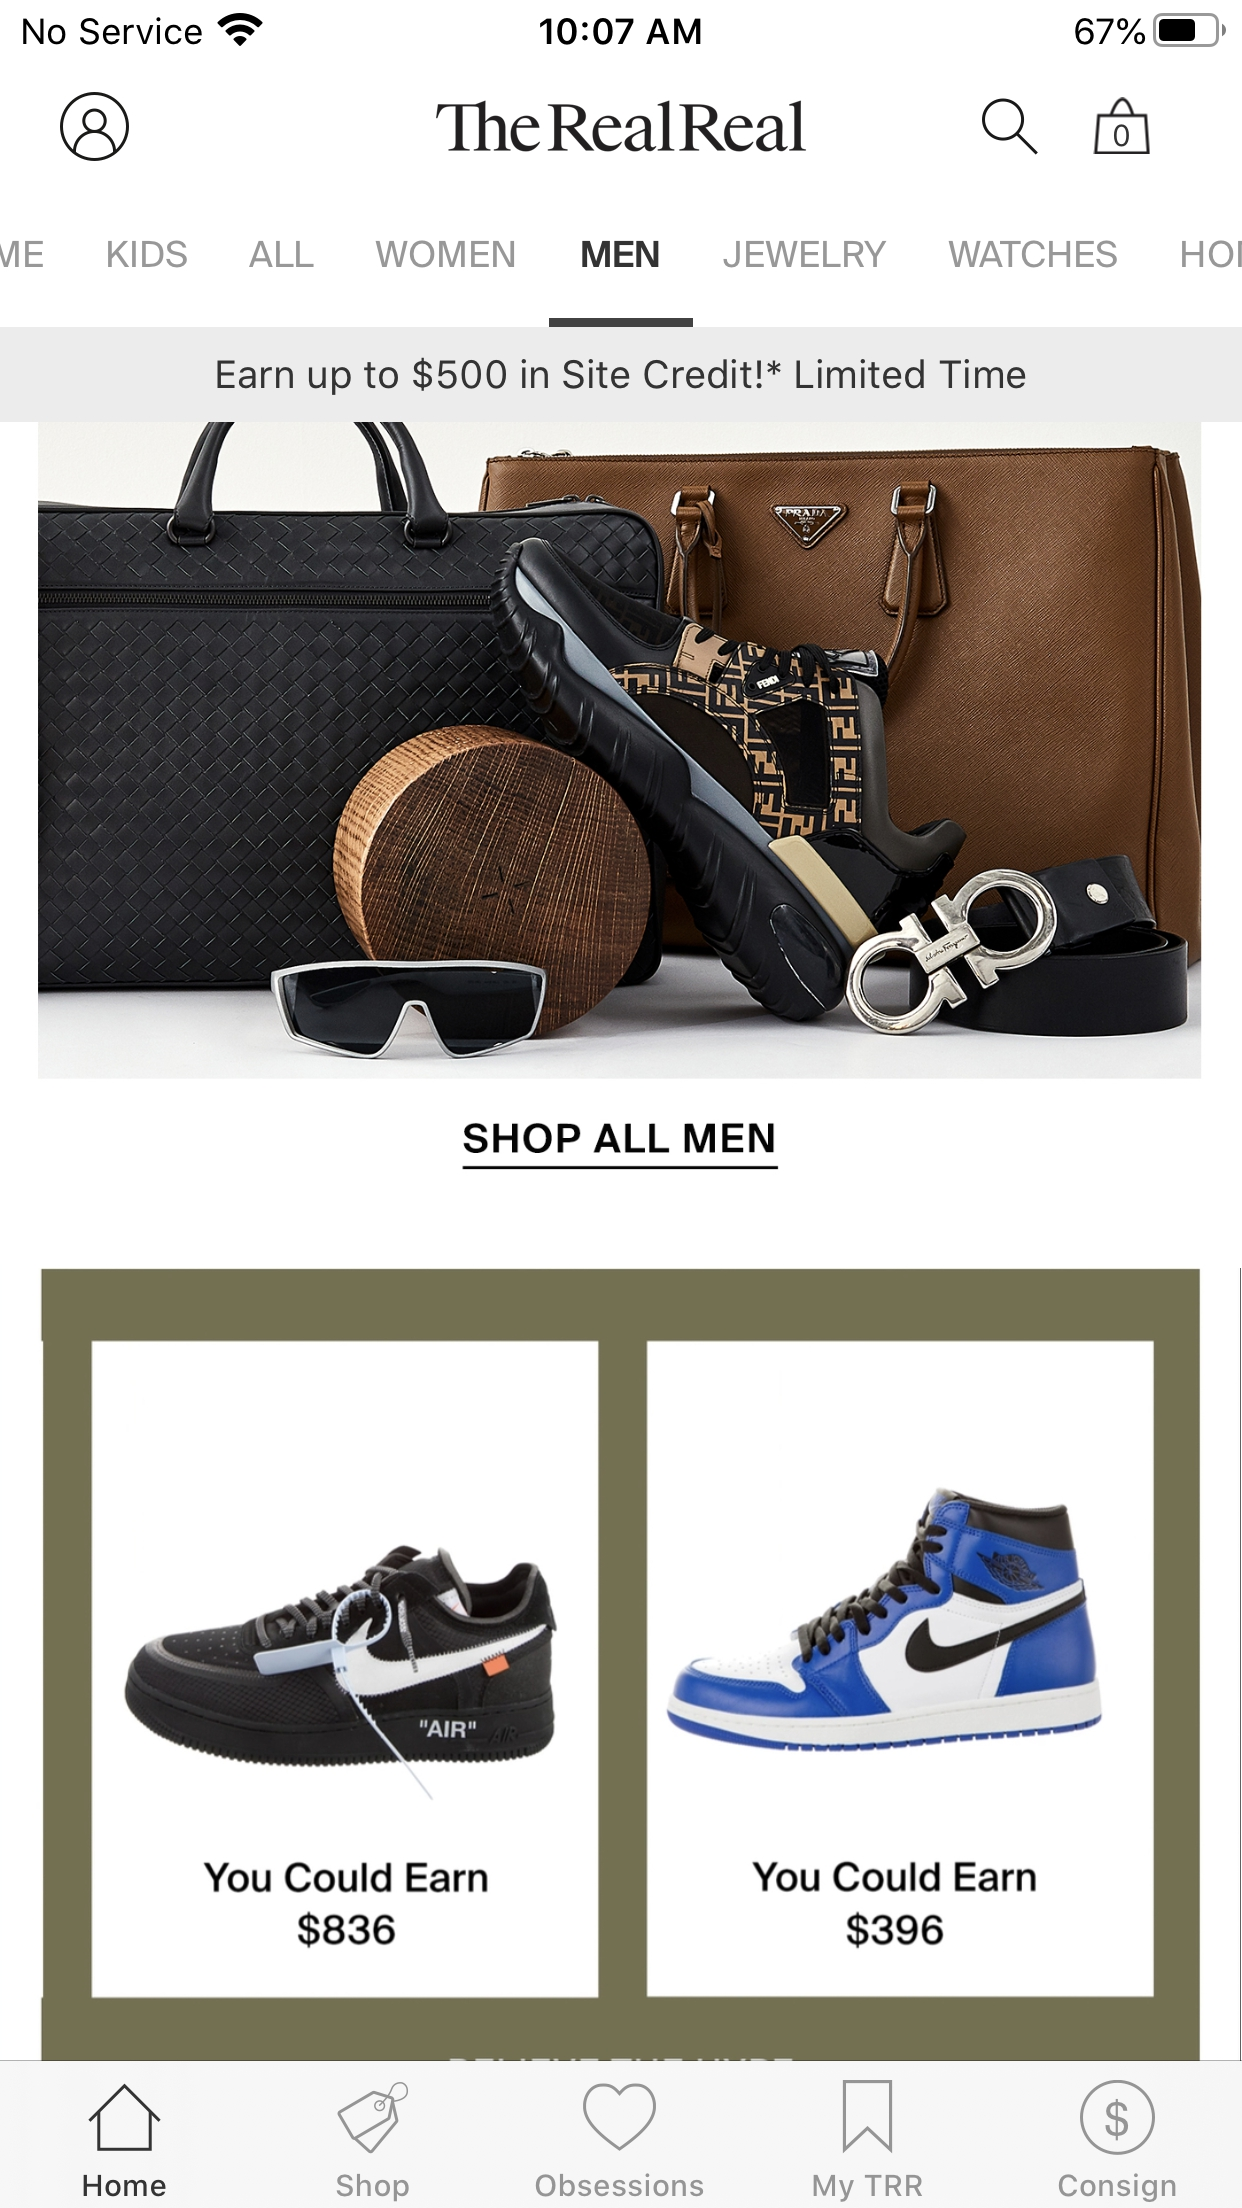Icon: (1080, 2081, 1156, 2153), (337, 2082, 408, 2153), (582, 2084, 657, 2150), (88, 2084, 161, 2150), (61, 93, 129, 161), (842, 2081, 893, 2153), (1093, 99, 1149, 155), (983, 99, 1037, 155)
Image: (38, 422, 1200, 1080), (666, 1488, 1102, 1752), (124, 1545, 557, 1800)
Text: (217, 356, 1027, 394), (437, 100, 805, 152), (752, 1861, 1037, 1893), (463, 1124, 775, 1153), (203, 1862, 488, 1893), (948, 240, 1118, 268), (723, 240, 887, 268), (375, 240, 516, 268), (297, 1909, 396, 1949), (535, 2173, 704, 2196), (846, 1911, 943, 1950), (1059, 2172, 1175, 2200), (813, 2175, 922, 2202), (108, 240, 187, 268), (582, 240, 660, 267), (337, 2173, 409, 2202), (83, 2175, 165, 2197), (249, 240, 314, 267)
UpperTaskBar: (2, 2, 1242, 49)
